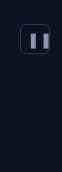
Test: MoleculeViewer › spins by default and the toggle pauses and resumes it
Later steps or results of the test are not shown.
Click the button named "Pause rotation" at (35, 39), box top-left (20, 24), bottom-right (50, 54)
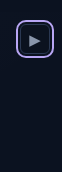
Expected: the button named "Resume rotation" is not pressed, top-left (20, 24), bottom-right (50, 54)
